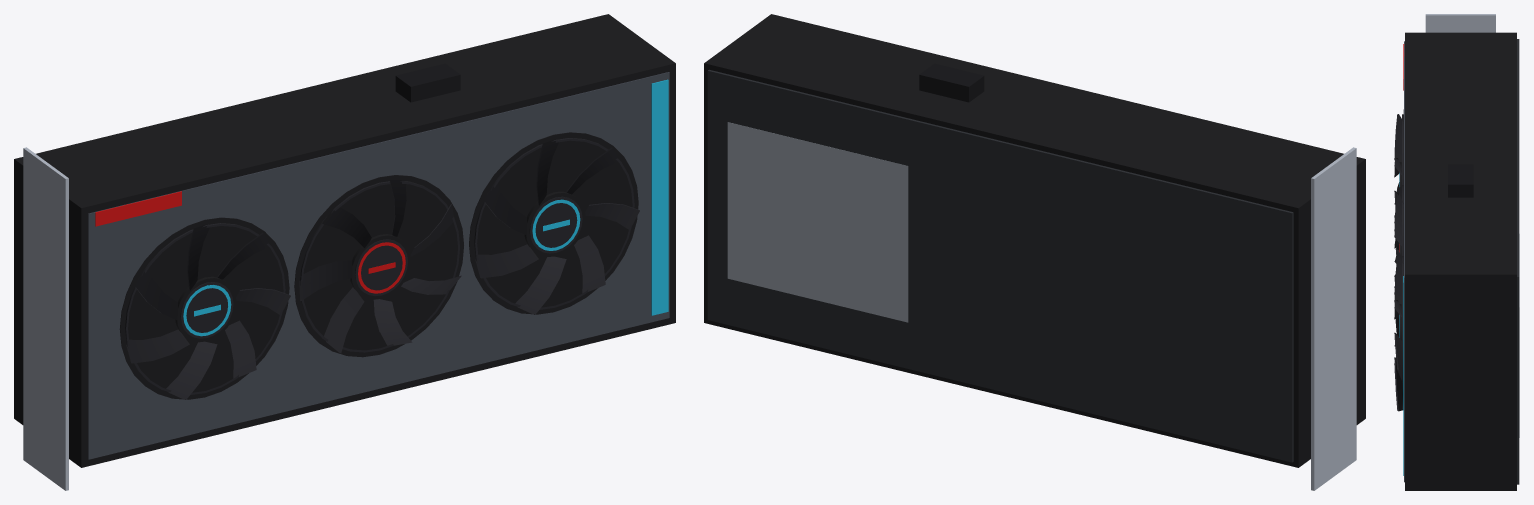
File: GPU_ASUS_ROG_STRIX_GEFORCE_RTX_4090_OC.obj
3 renders of one model, left to right at view 1: azimuth 30°, elevation 25°; view 2: azimuth 150°, elevation 25°; view 3: azimuth 270°, elevation 25°, orthographic. The views are drawn at different scales.
Visible parts, largest first — view 1: Main_Card, Fan_Rotor_3, Fan_Rotor_1, Fan_Rotor_2; view 2: Main_Card; view 3: Main_Card, Fan_Rotor_3, Fan_Rotor_2, Fan_Rotor_1.
Boxes of the visible parts, <box> form: Main_Card: <box>14,14,675,490</box>; Fan_Rotor_3: <box>474,138,639,314</box>; Fan_Rotor_1: <box>125,223,290,399</box>; Fan_Rotor_2: <box>299,180,461,353</box>; Main_Card: <box>704,14,1365,490</box>; Main_Card: <box>1403,14,1519,490</box>; Fan_Rotor_3: <box>1394,256,1403,411</box>; Fan_Rotor_2: <box>1394,185,1403,332</box>; Fan_Rotor_1: <box>1394,114,1403,254</box>.
Bounding box in the file's own units: 360 × 179 × 78.23.
